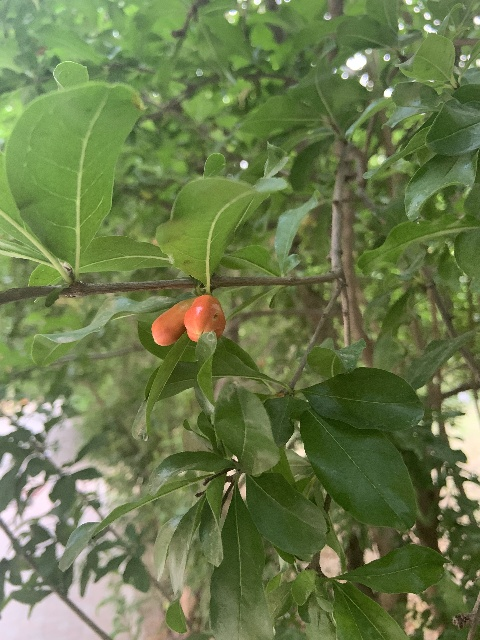bud: (151, 297, 193, 346), (184, 293, 225, 342)
